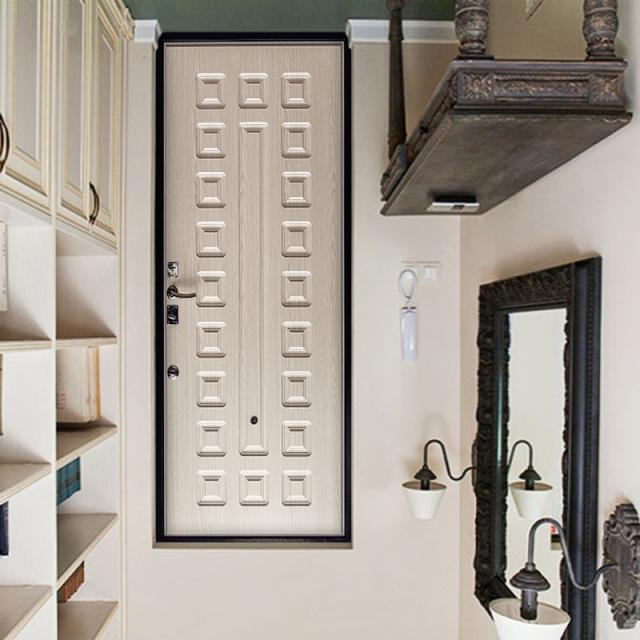close: (159, 35, 341, 537)
